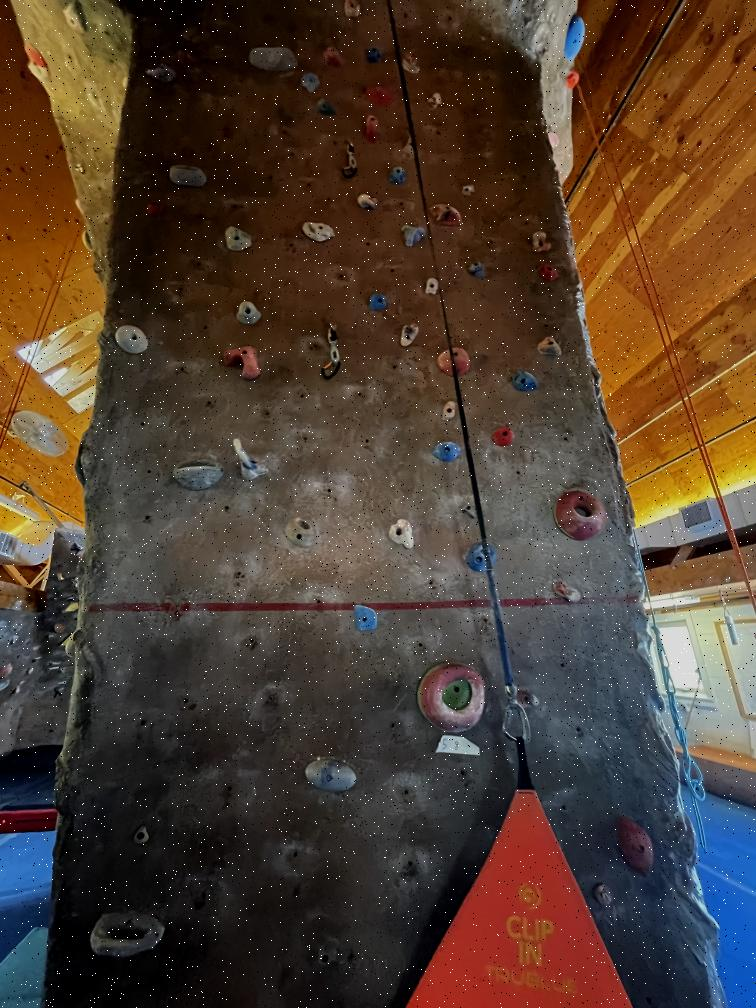Crimp: (220, 220, 258, 256), (59, 0, 92, 38), (487, 424, 518, 450), (533, 261, 562, 284), (313, 98, 341, 120), (297, 70, 321, 94)
Foothold: (588, 880, 618, 909), (129, 825, 152, 854), (143, 197, 168, 218), (425, 90, 445, 112), (218, 125, 236, 143), (457, 182, 476, 199)
Jug: (614, 810, 659, 880), (298, 757, 360, 797), (216, 343, 268, 382), (228, 435, 270, 482), (383, 514, 422, 552), (435, 344, 473, 380), (232, 297, 269, 333), (24, 41, 54, 83), (351, 603, 383, 636), (428, 437, 466, 464), (427, 202, 465, 228), (534, 334, 568, 360), (299, 221, 338, 243), (510, 369, 544, 394), (400, 224, 428, 253), (527, 228, 555, 254), (319, 44, 345, 70), (362, 113, 383, 145), (400, 50, 422, 78), (364, 291, 392, 312), (423, 273, 443, 300), (355, 192, 381, 212), (386, 164, 410, 185), (364, 46, 385, 66)
Pinch: (464, 539, 500, 579), (550, 577, 585, 605), (397, 320, 423, 352), (440, 398, 458, 424), (565, 68, 581, 90)
Pocket: (416, 656, 489, 736), (87, 908, 168, 965), (545, 488, 611, 544), (168, 456, 227, 492), (281, 513, 320, 550), (167, 159, 211, 191)
Sloper: (246, 44, 299, 73), (111, 321, 151, 355), (564, 10, 587, 64), (361, 83, 397, 110), (144, 61, 178, 88), (464, 259, 488, 281)
